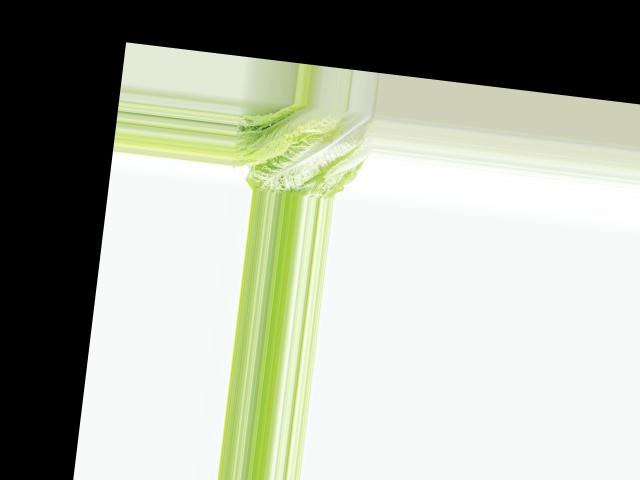lettuce: (228, 97, 374, 202)
